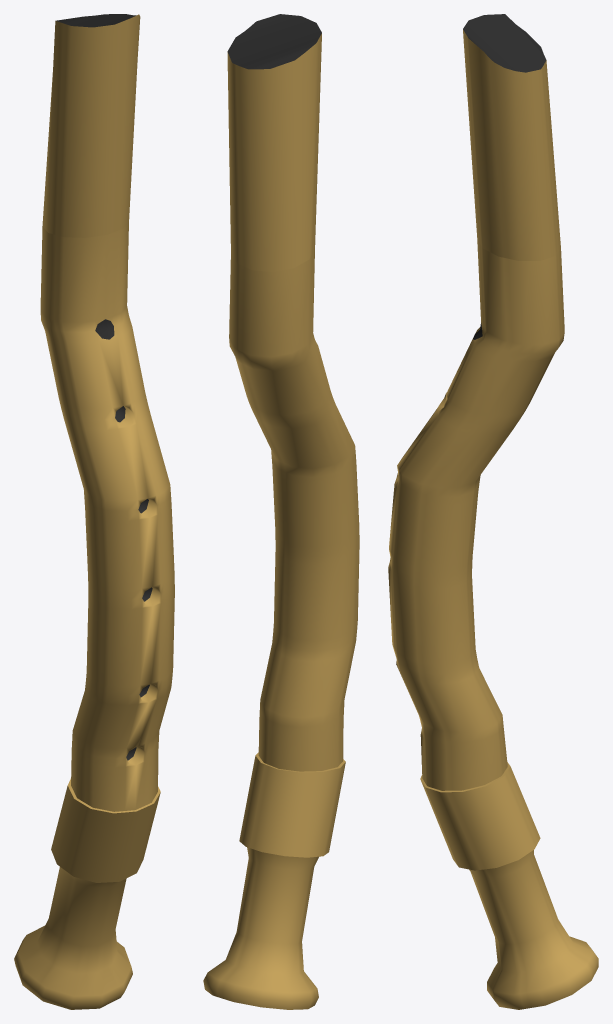
File: Flauta_Ruim.fbx
The picture shows the model from 3 angles, left to right: view 1: azimuth 30°, elevation 25°; view 2: azimuth 150°, elevation 25°; view 3: azimuth 270°, elevation 25°; orthographic projection. The views are drawn at different scales.
Visible parts, largest first — view 1: Flauta_Ruim; view 2: Flauta_Ruim; view 3: Flauta_Ruim.
Boxes of the visible parts, bbox=[...] form: Flauta_Ruim: bbox=[14, 14, 174, 1009]; Flauta_Ruim: bbox=[203, 14, 359, 1009]; Flauta_Ruim: bbox=[388, 14, 598, 1009].
Size of the model in its own units: 5.18 by 47.17 by 9.3.
